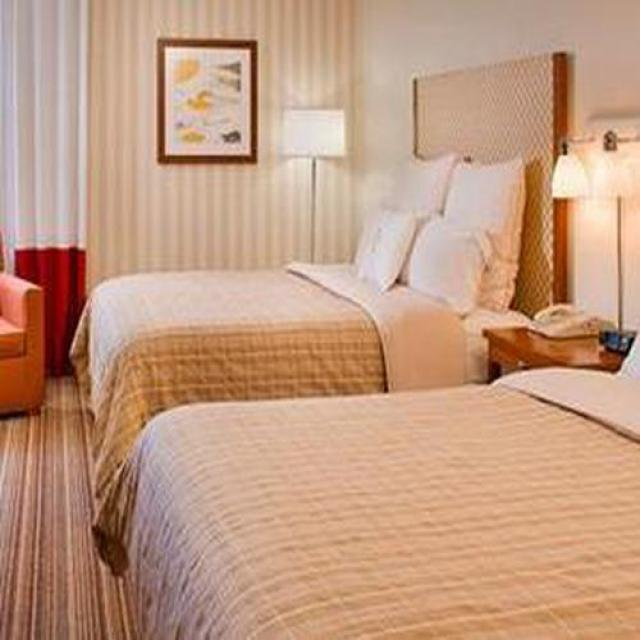bed: (86, 55, 568, 576)
